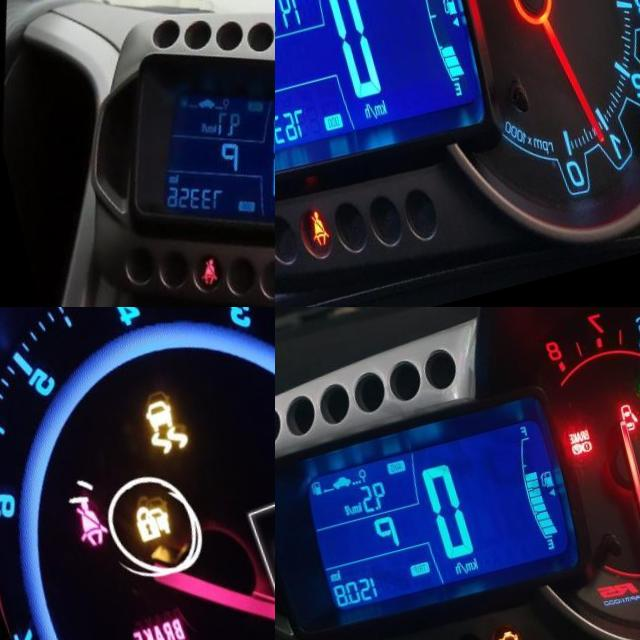Doors: (607, 423, 627, 453)
SideLamp: (627, 401, 640, 424)
